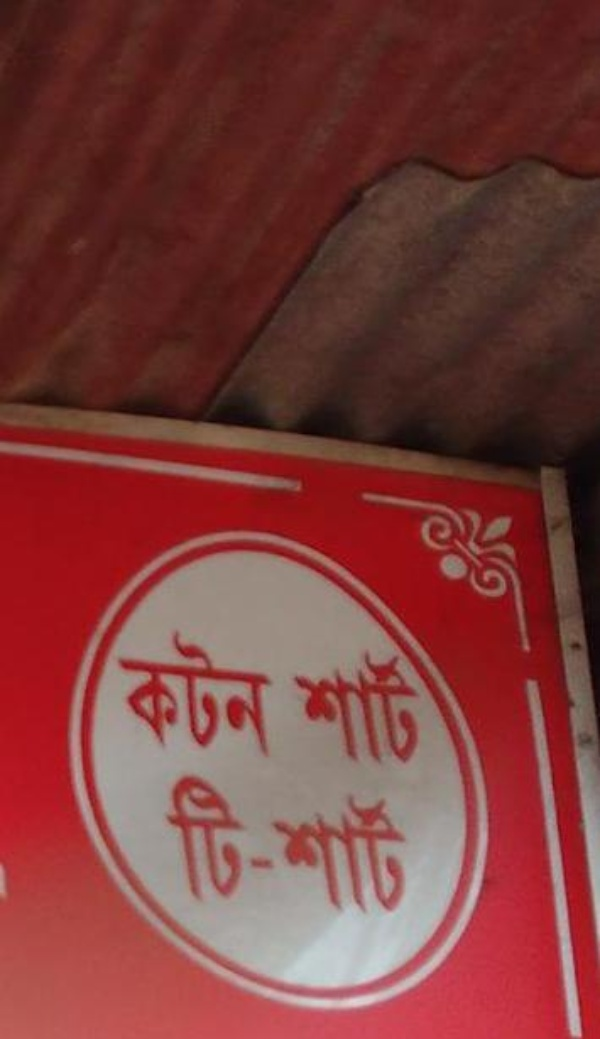text: (161, 764, 176, 923), (177, 764, 192, 923), (193, 764, 208, 923), (209, 764, 224, 923), (225, 764, 240, 923), (241, 764, 256, 923), (257, 764, 272, 923), (273, 764, 288, 923), (289, 764, 304, 923), (305, 764, 320, 923), (321, 764, 336, 923), (337, 764, 352, 923), (353, 764, 368, 923), (369, 764, 384, 923), (385, 764, 400, 923), (401, 764, 416, 923), (417, 641, 433, 773), (129, 627, 144, 761), (145, 627, 160, 761), (161, 627, 176, 761), (177, 627, 192, 761), (193, 627, 208, 761), (209, 627, 224, 761), (225, 627, 240, 761), (241, 627, 256, 761), (257, 627, 272, 761), (289, 641, 304, 773), (305, 641, 320, 773), (321, 641, 336, 773), (337, 641, 352, 773), (353, 641, 368, 773), (369, 641, 384, 773), (385, 641, 400, 773), (401, 641, 416, 773), (115, 627, 128, 761), (283, 641, 288, 773), (417, 764, 421, 923), (273, 627, 276, 761), (159, 764, 160, 923)
